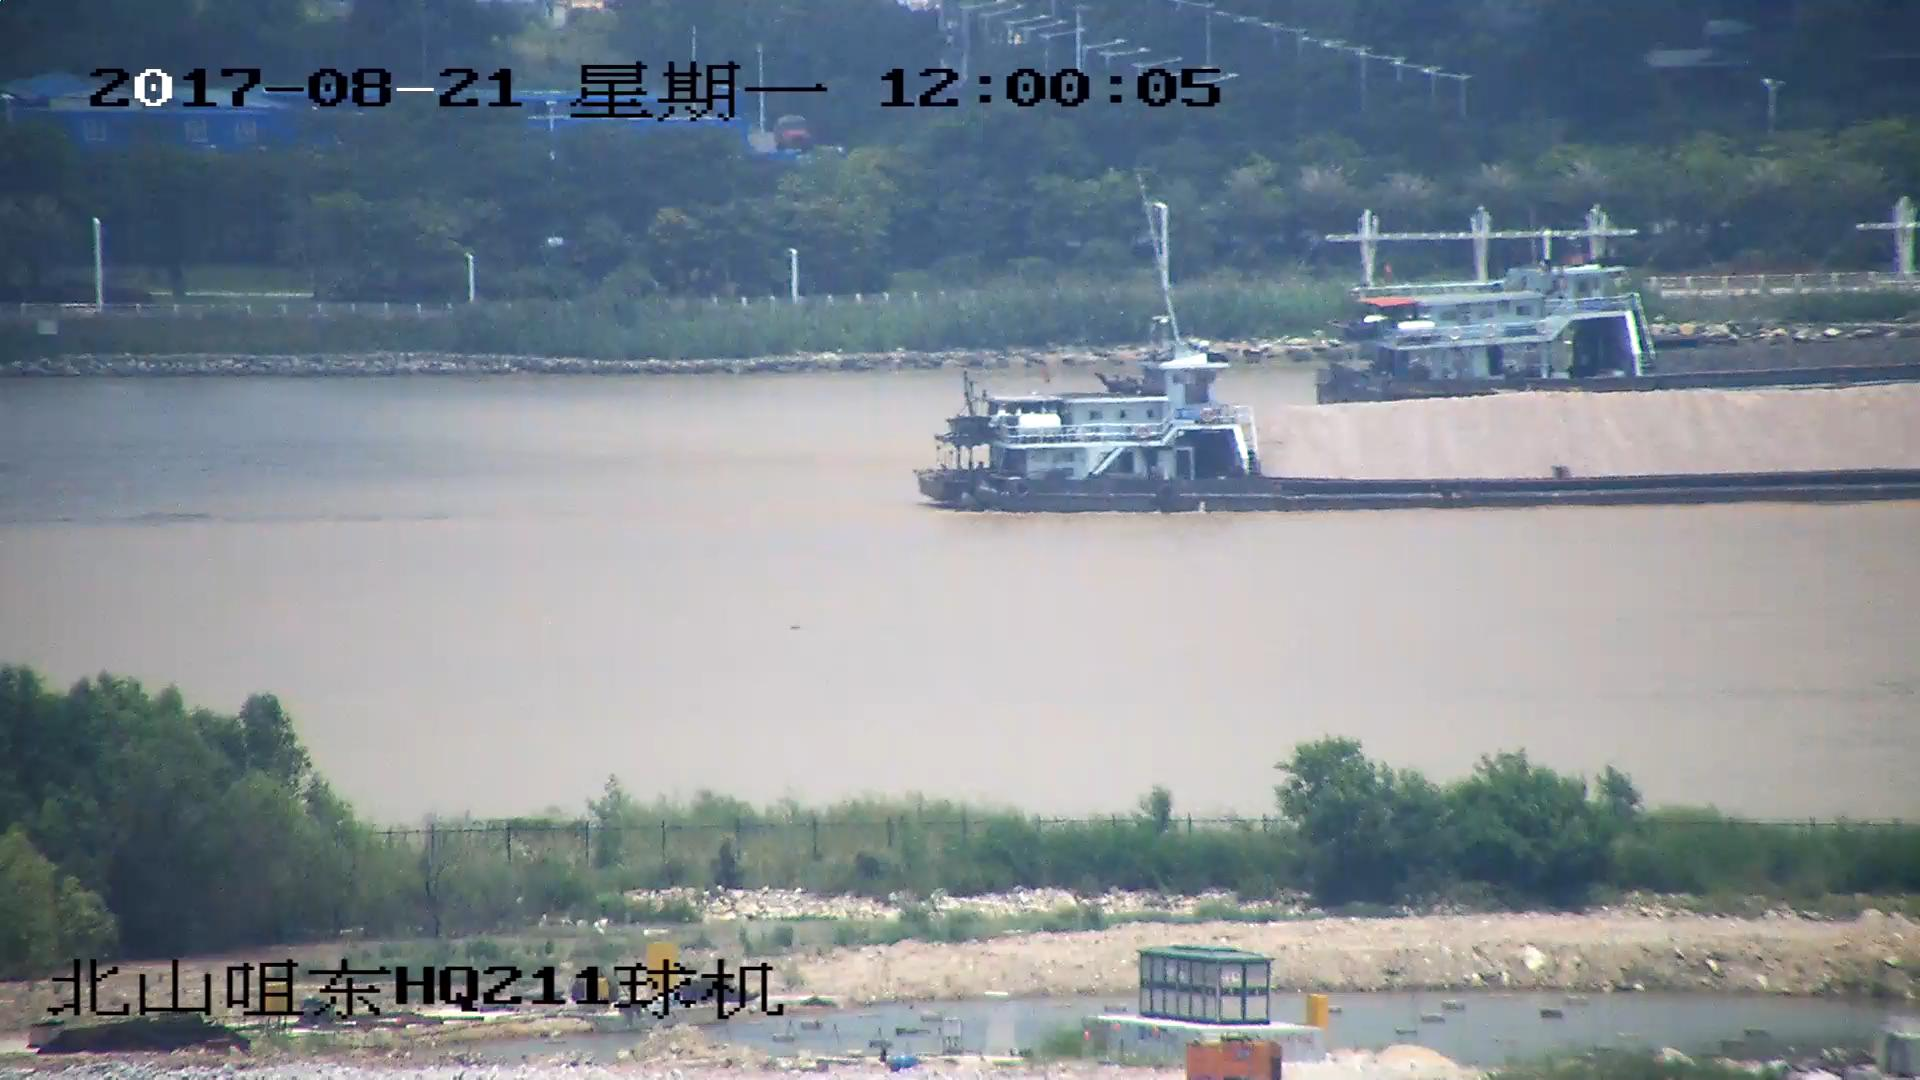bulk cargo carrier: (1312, 272, 1920, 394)
ore carrier: (910, 347, 1920, 512)
